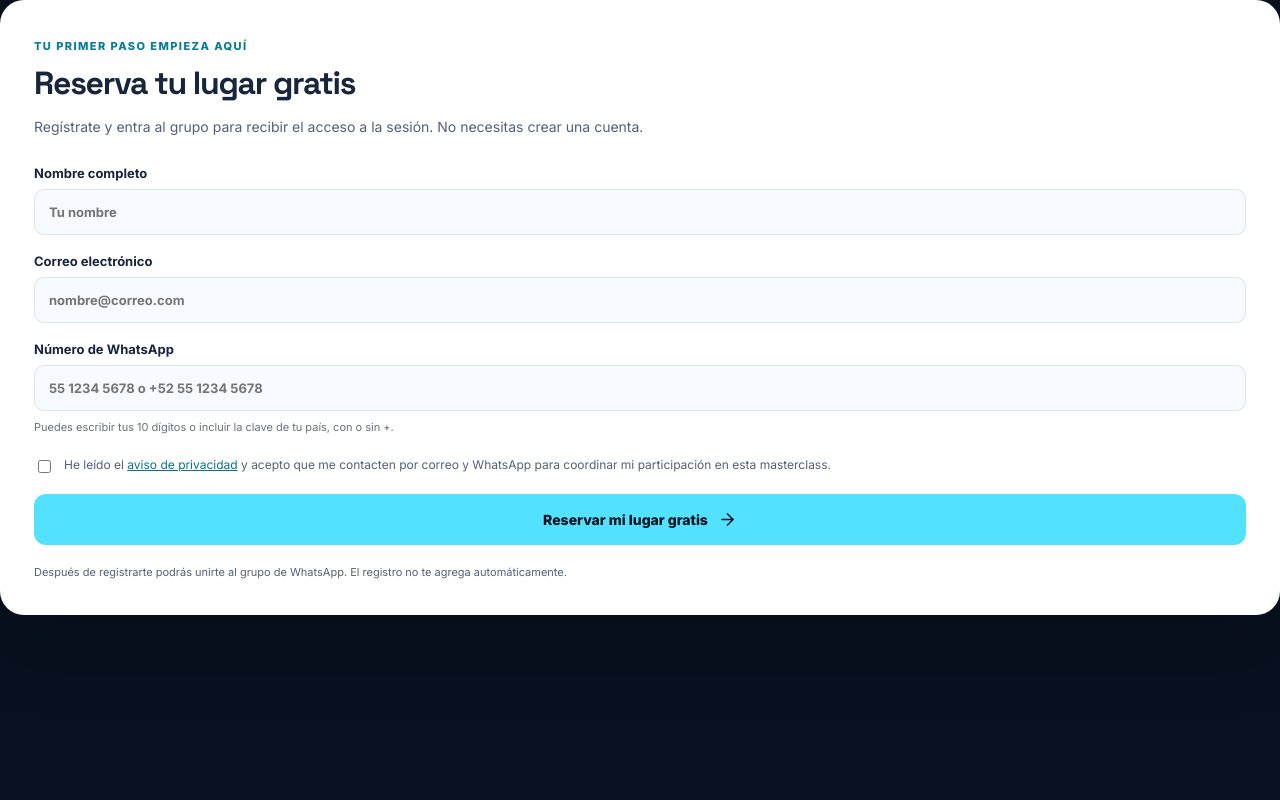
Test: MasterclassForm › conserva el formulario y no muestra confirmación si falla el guardado
Check: the button "Reservar mi lugar gratis" is enabled, box [34,494,1246,545]
Type "Ana Prueba" into the field labelled "Nombre completo" at [640, 212], box [34,189,1246,235]
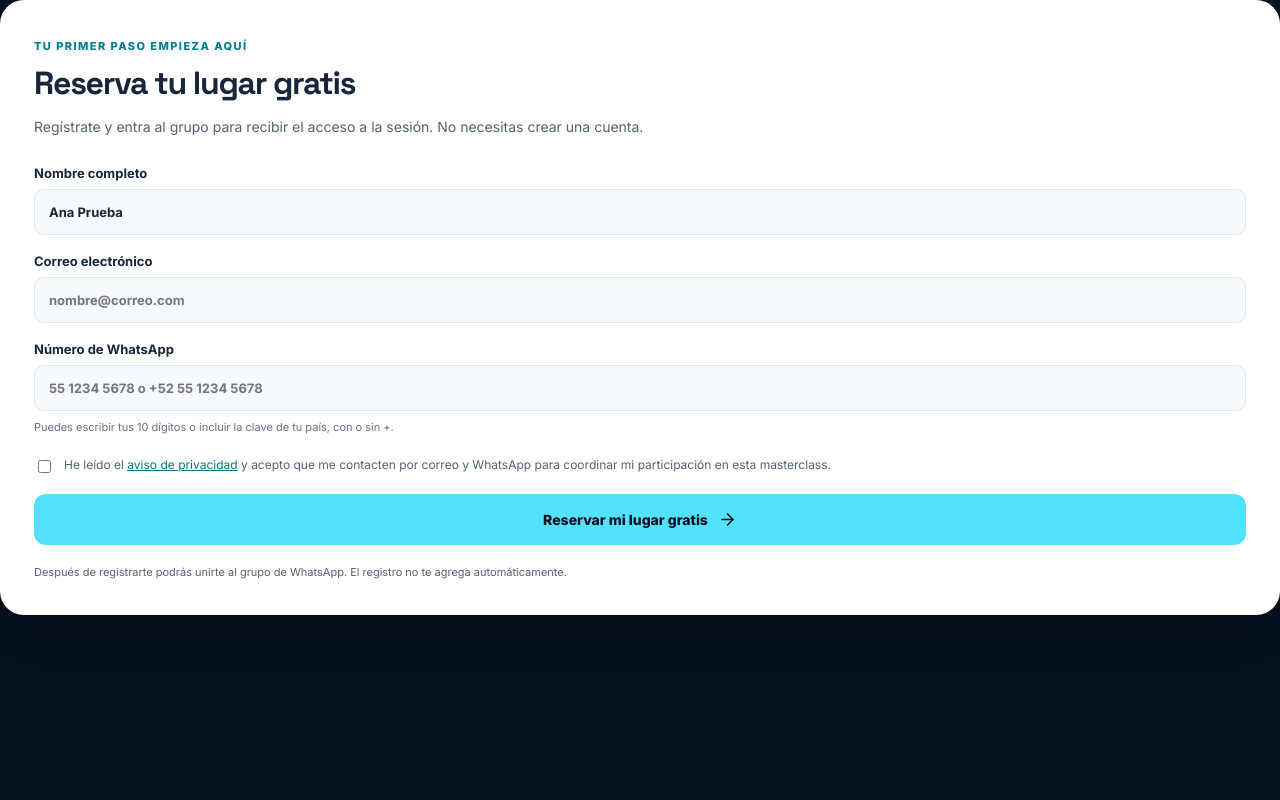
Type "ana@example.com" into the field labelled "Correo electrónico" at [640, 300], box [34,277,1246,323]
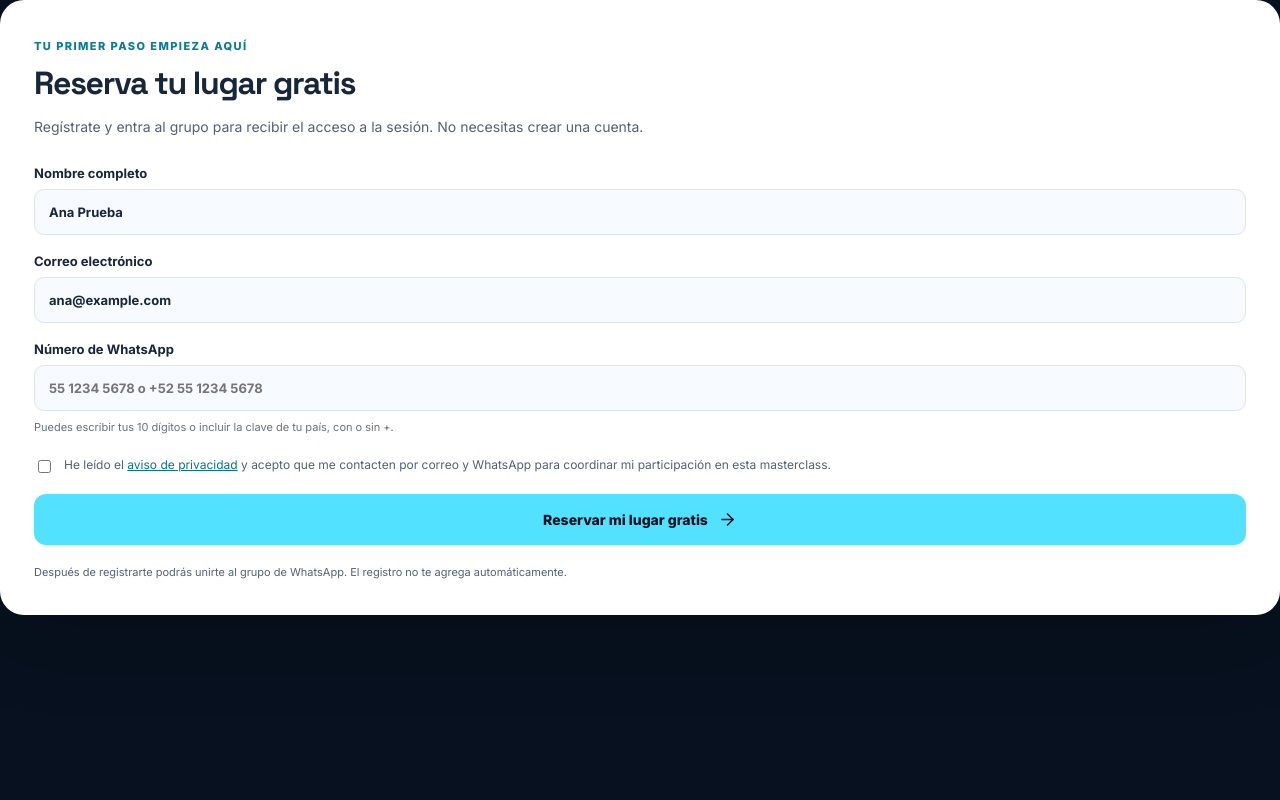
Type "+52 55 1234 5678" into the field labelled "Número de WhatsApp" at [640, 388], box [34,365,1246,411]
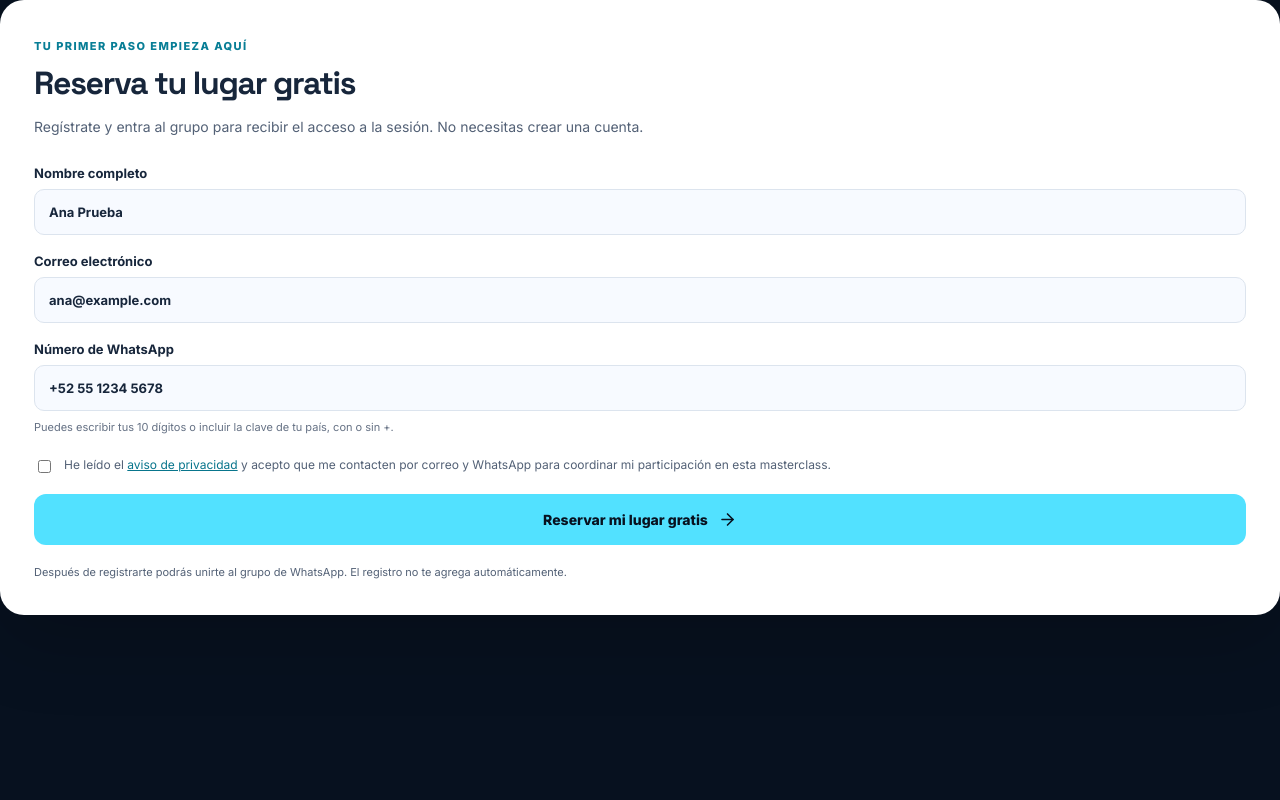
Click the checkbox at [44, 466], box [38,460,51,473]
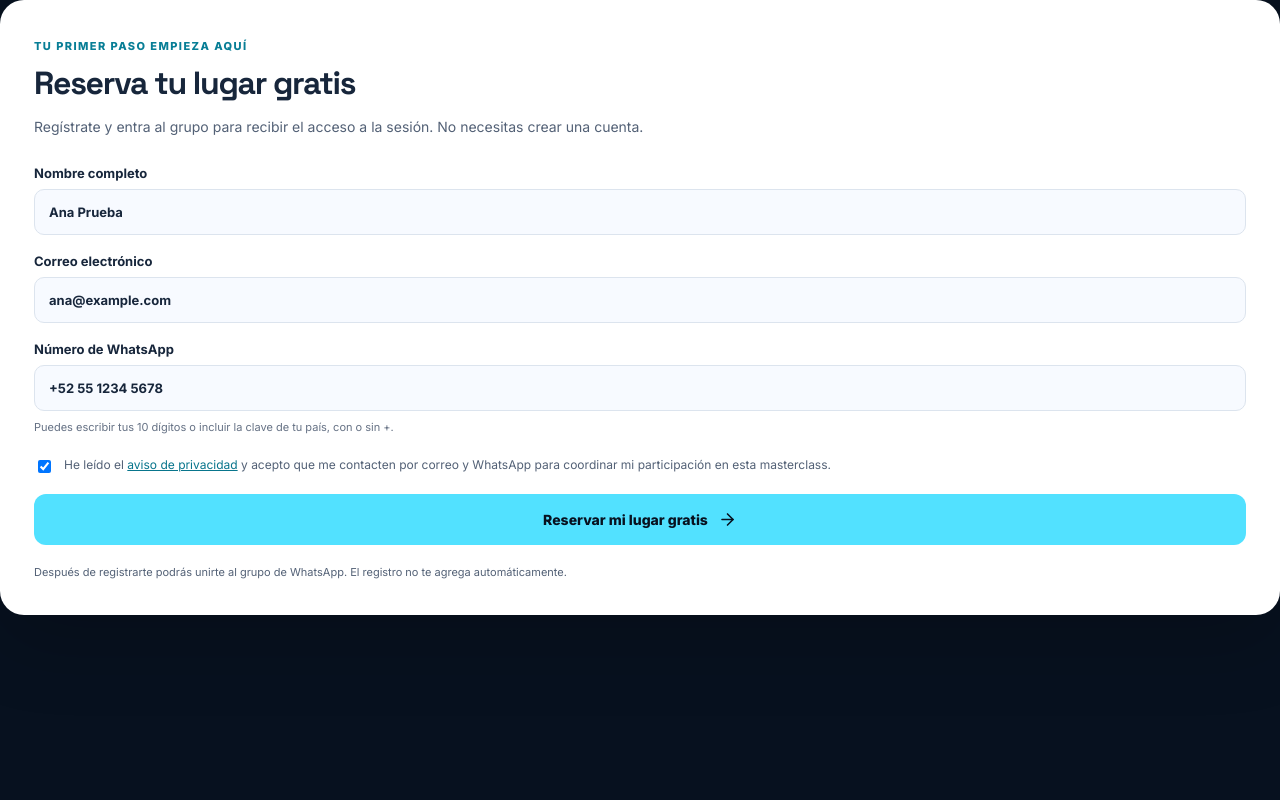
Click the button "Reservar mi lugar gratis" at [640, 519], box [34,494,1246,545]
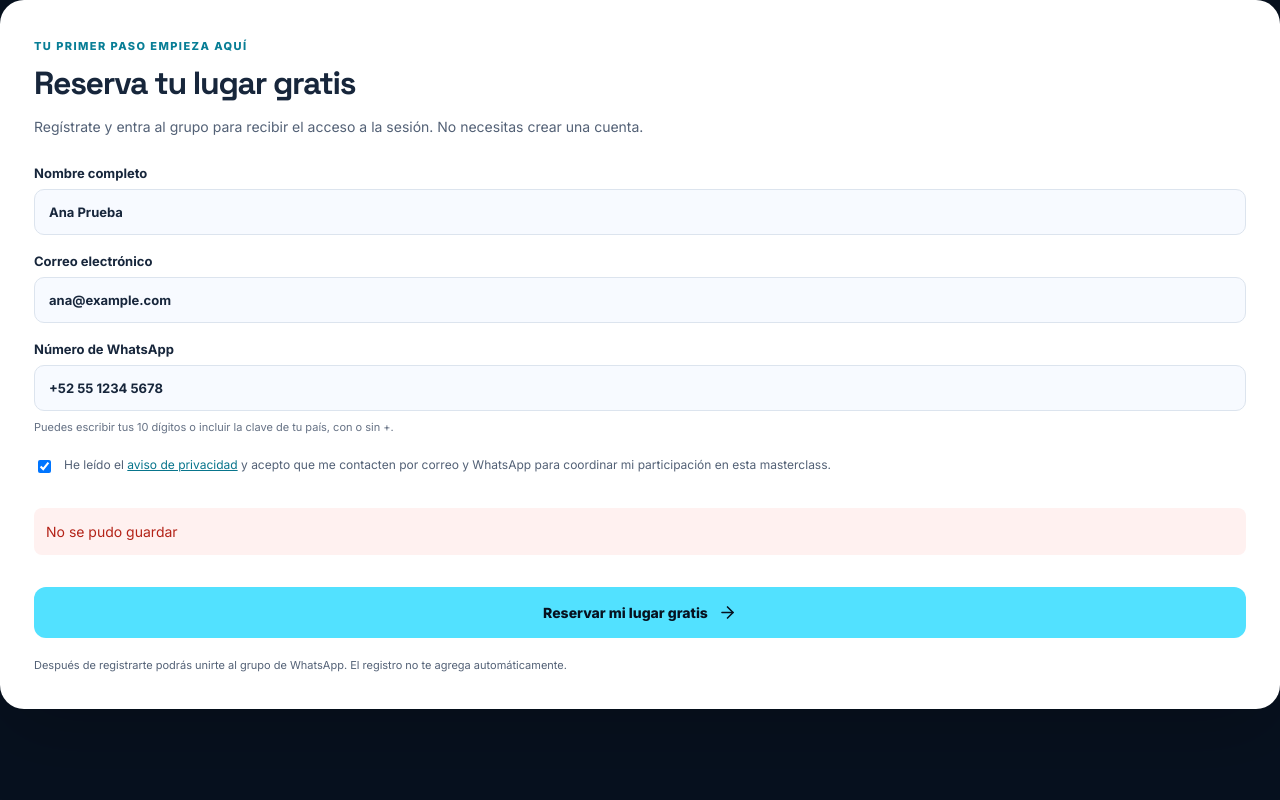
Check: the message reads "No se pudo guardar", box [46,523,178,540]
